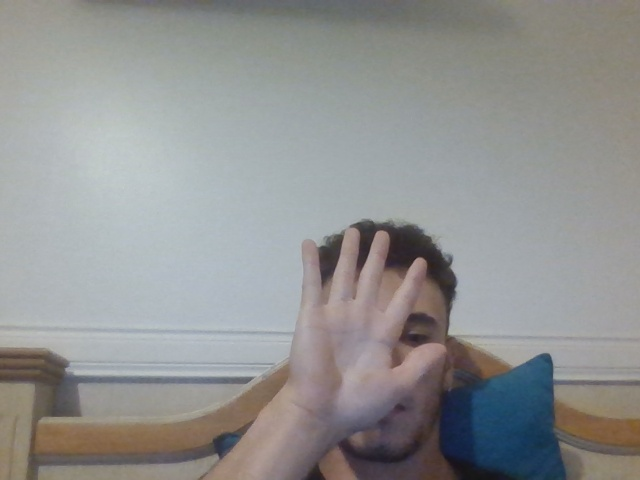Play: (291, 227, 450, 431)
